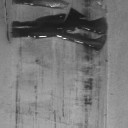slag inclusion: (3, 0, 109, 128), (14, 80, 19, 128), (54, 112, 66, 126), (34, 100, 38, 120), (18, 46, 23, 57), (34, 85, 37, 91), (35, 59, 40, 62)
